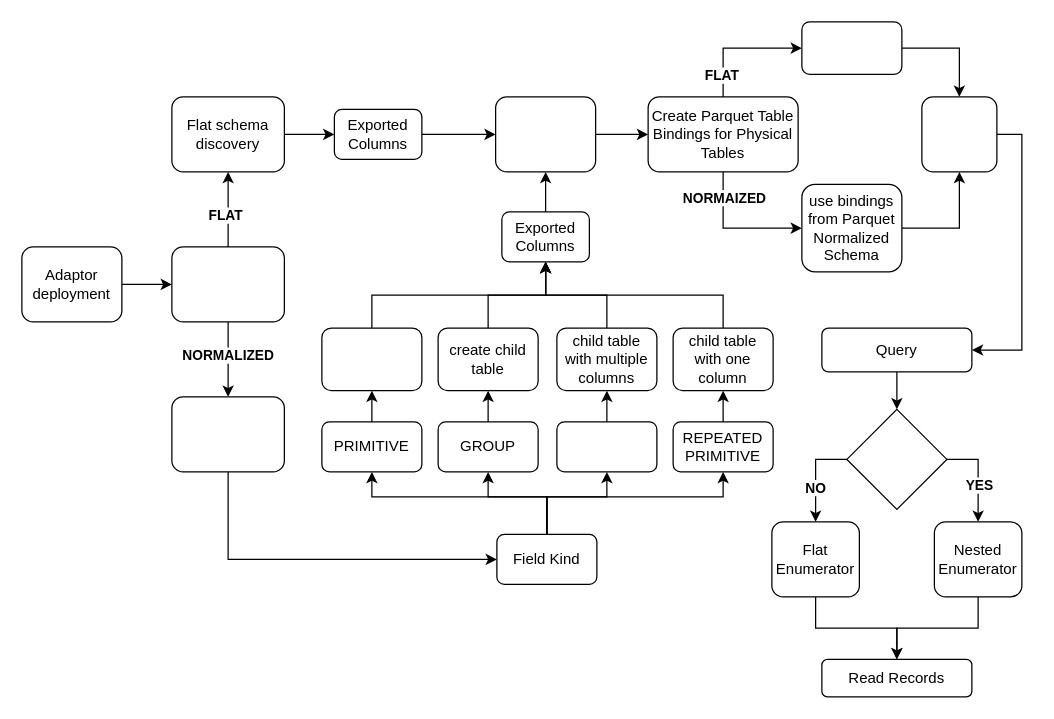
The diagram is 1054 pixels wide and 719 high, and some of its shapes have lost their labels. Here are the shapes that lost their labels. From the top down, the centre of each, then its label:
At pixel 851 47: "create flat root binding".
At pixel 545 134: "Parquet normalized schema".
At pixel 959 134: "Parquet Table Bindings".
At pixel 227 284: "Load schema mode from settings".
At pixel 371 359: "column in current table".
At pixel 227 434: "Normalized schema discovery".
At pixel 606 446: "REPEATED GROUP".
At pixel 896 458: "Is Nested Table".
